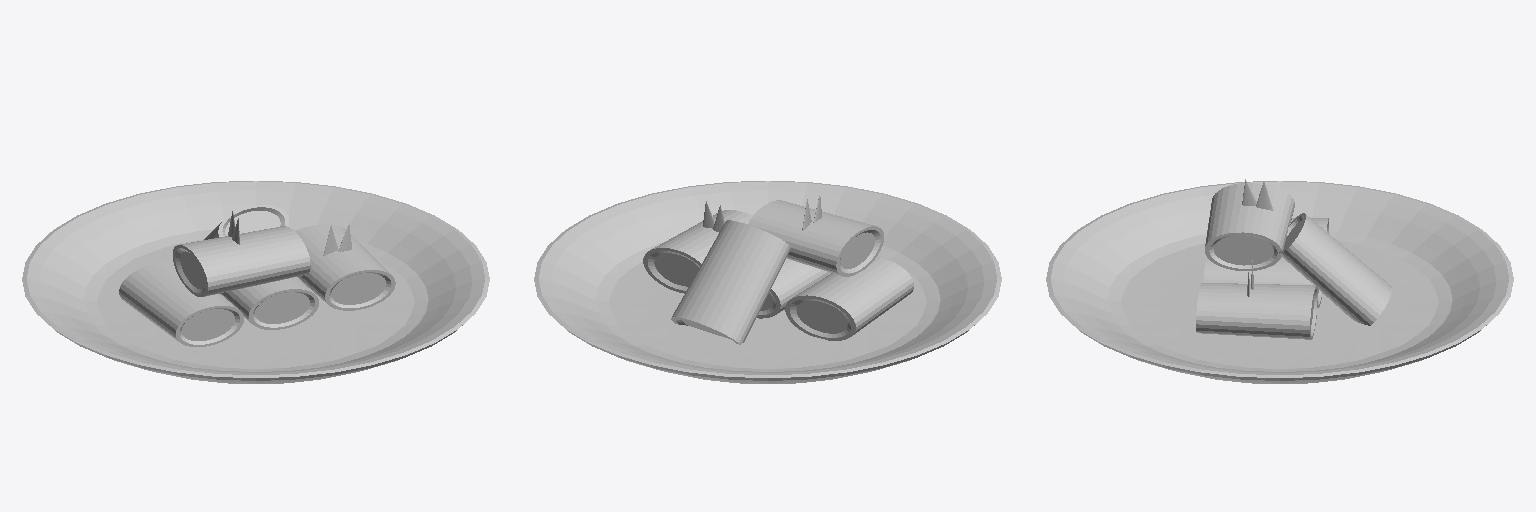
The model's file is getuk lindri.obj.
The picture shows the model from 3 angles: view 1: azimuth 30°, elevation 25°; view 2: azimuth 150°, elevation 25°; view 3: azimuth 270°, elevation 25°; orthographic projection.
Visible parts, largest first — view 1: Cylinder, Cylinder.004_Cylinder.006, Cylinder.005, Cylinder.002_Cylinder.003, Cylinder.001_Cylinder.002, Cylinder.003_Cylinder.004; view 2: Cylinder, Cylinder.003_Cylinder.004, Cylinder.005, Cylinder.004_Cylinder.006, Cylinder.002_Cylinder.003, Cylinder.001_Cylinder.002; view 3: Cylinder, Cylinder.002_Cylinder.003, Cylinder.004_Cylinder.006, Cylinder.003_Cylinder.004, Cylinder.001_Cylinder.002.
Part boxes in pixels (bbox=[...]): Cylinder: bbox=[22, 181, 489, 383]; Cylinder.004_Cylinder.006: bbox=[173, 226, 310, 296]; Cylinder.005: bbox=[119, 261, 243, 346]; Cylinder.002_Cylinder.003: bbox=[295, 224, 395, 310]; Cylinder.001_Cylinder.002: bbox=[220, 277, 318, 329]; Cylinder.003_Cylinder.004: bbox=[204, 205, 289, 239]; Cylinder: bbox=[534, 181, 1001, 383]; Cylinder.003_Cylinder.004: bbox=[671, 220, 790, 344]; Cylinder.005: bbox=[785, 257, 913, 340]; Cylinder.004_Cylinder.006: bbox=[748, 200, 883, 276]; Cylinder.002_Cylinder.003: bbox=[643, 210, 752, 293]; Cylinder.001_Cylinder.002: bbox=[757, 258, 830, 318]; Cylinder: bbox=[1046, 181, 1513, 383]; Cylinder.002_Cylinder.003: bbox=[1196, 283, 1317, 339]; Cylinder.004_Cylinder.006: bbox=[1205, 183, 1294, 270]; Cylinder.003_Cylinder.004: bbox=[1278, 213, 1391, 325]; Cylinder.001_Cylinder.002: bbox=[1203, 257, 1322, 307].
Bounding box in the file's own units: 2.31 × 0.6586 × 2.31.